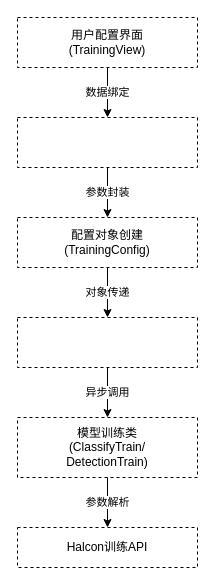
This 215x585 diagram has some shape labels left out. The shapes that lost their labels are listed below. From the top down, each one's centre as x and y in pixels, then its label:
At point (107, 142): "视图模型层 (TrainingViewModel)".
At point (107, 342): "进度窗口VM (ProgressViewModel)".
